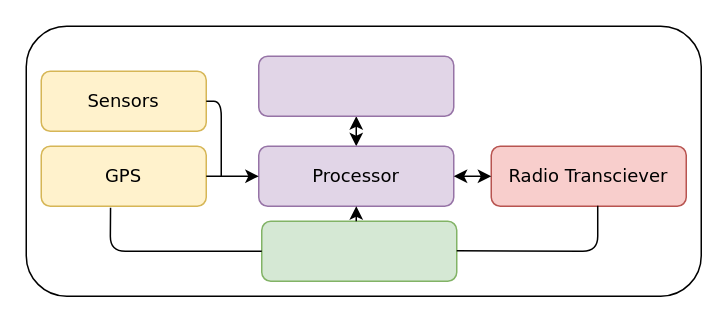
Image size: 728x323. Some labels were removed from this diagram. The shapes that lost their labels are listed below. From the top down, each one's centre as x and y in pixels, then its label:
At pixel 355 85: "Memory".
At pixel 358 250: "Power Source".
